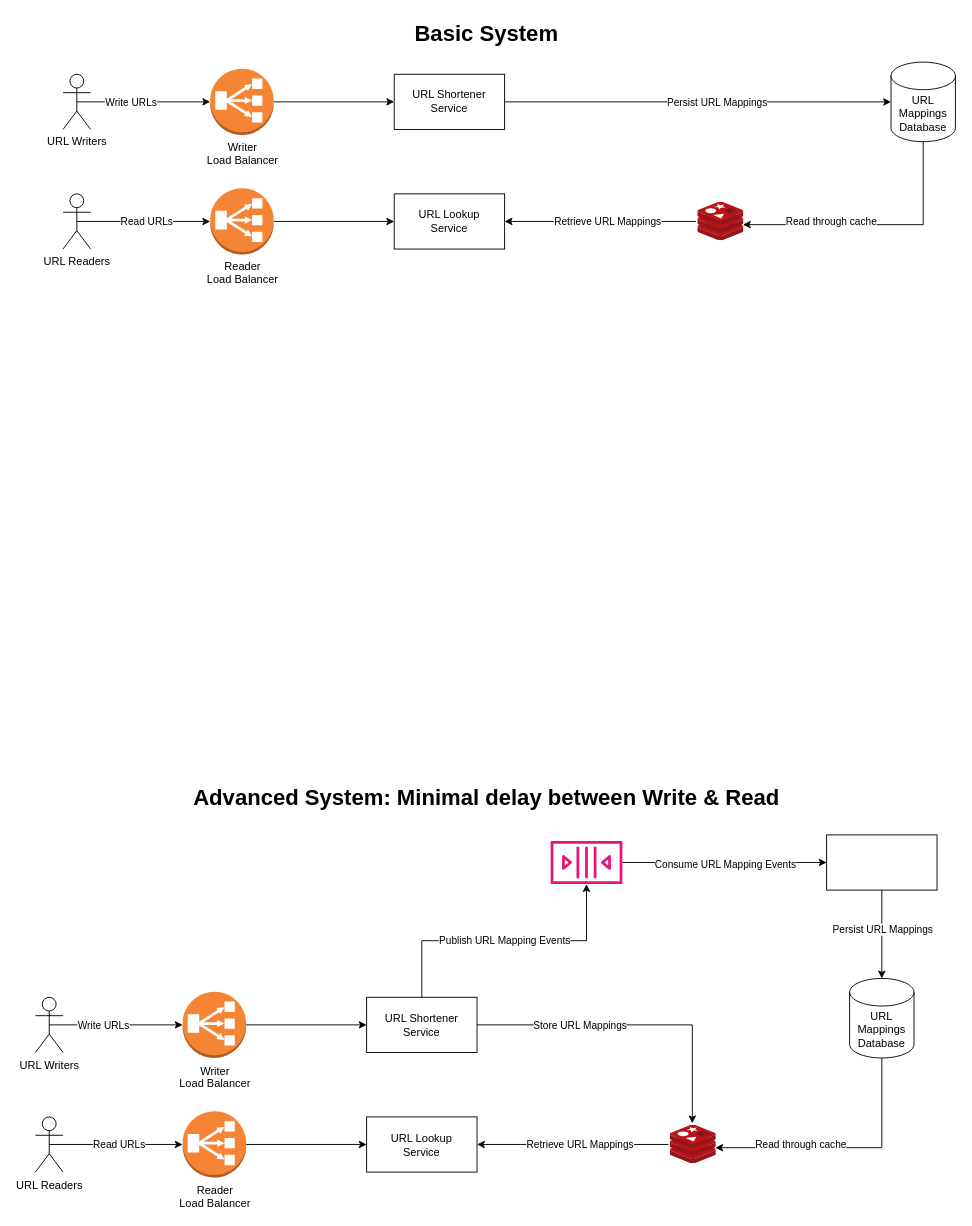
The diagram is 972 pixels wide and 1226 high, and some of its shapes have lost their labels. Here are the shapes that lost their labels. From the top down, the centre of each, then its label:
At (x=720, y=221): "URL Mappings cache".
At (x=881, y=862): "URL Persistence Service".
At (x=693, y=1144): "URLs cache".
